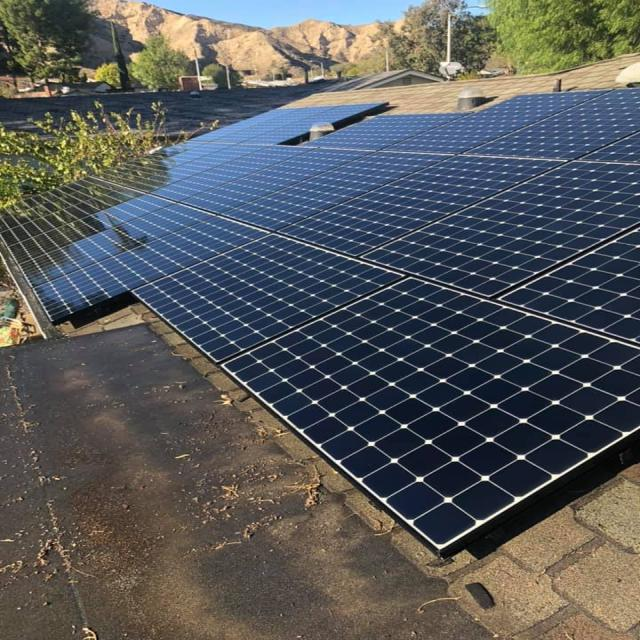clean-solar-panel: (3, 90, 638, 552)
